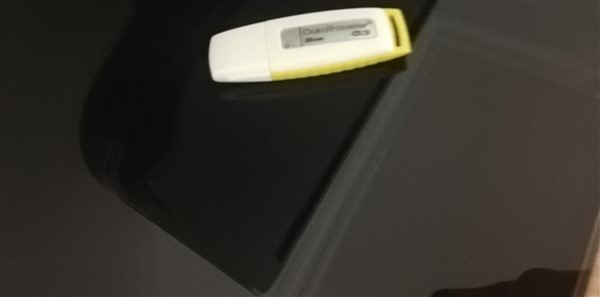flash disk: (201, 8, 413, 85)
